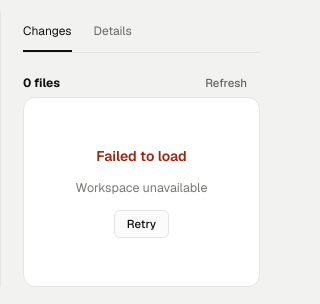
Test: Remote session inspector › shows a failed read and retries without fabricating an empty workspace
Expected: the message shows "Workspace unavailable", [76, 179, 207, 196]
Click the button "Retry".
click(141, 224)  # box [114, 210, 169, 238]
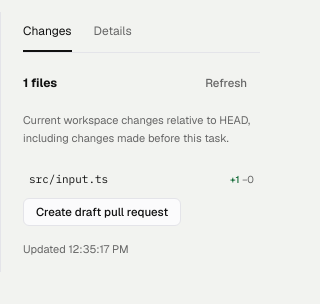
Now the button "src/input.ts +1 −0" is shown, box [23, 161, 260, 198]
